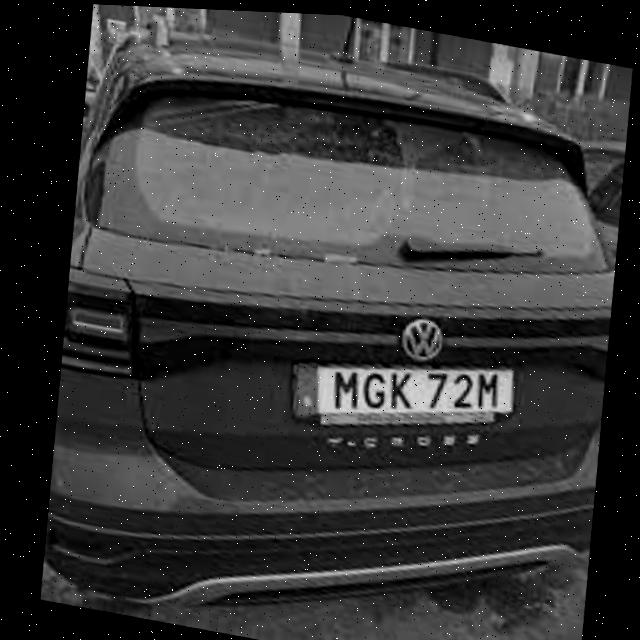license-plates: (293, 365, 514, 421)
